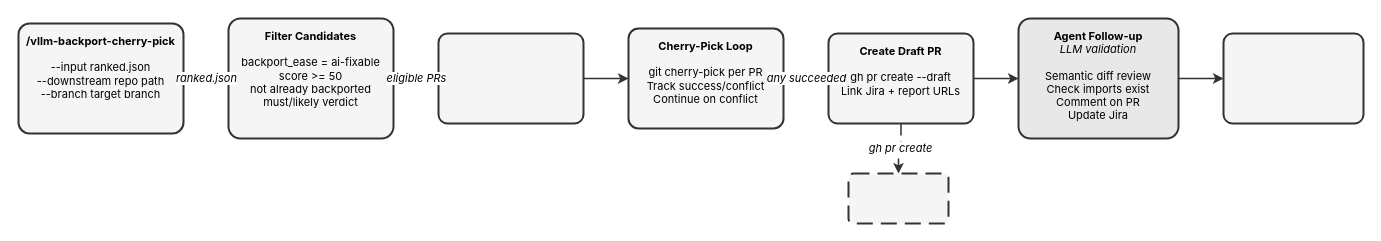
The diagram is 1381 pixels wide and 241 high, and some of its shapes have lost their labels. Each missing label, with the box of its shape:
GitHub: (847, 172, 949, 224)
Result cherry-pick-result.json succeeded/conflict counts: (1222, 32, 1364, 124)
Setup Branch Create backport branch From target branch: (437, 32, 584, 124)
